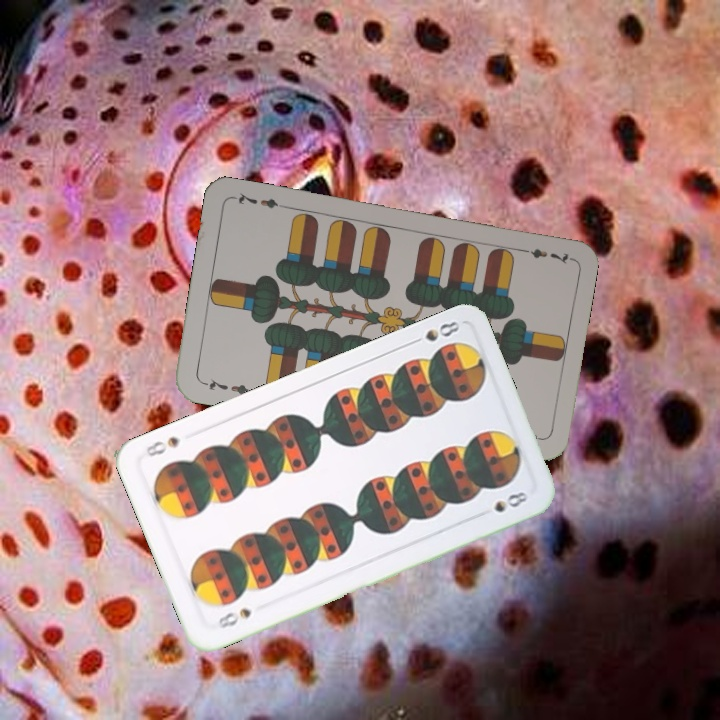E7: (198, 374, 257, 397), (514, 244, 573, 267)
S8: (405, 317, 463, 348), (213, 604, 254, 631)
